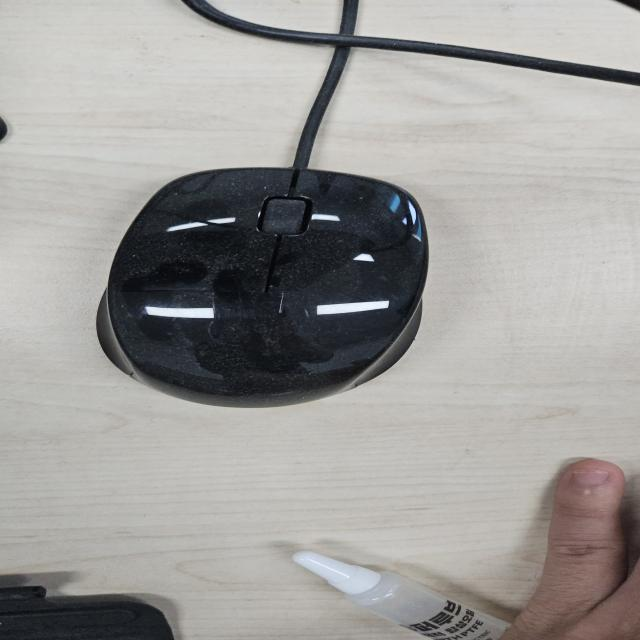Mouse: (94, 164, 432, 408)
